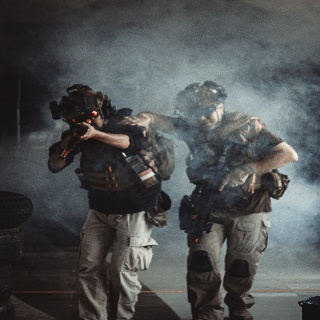rifle: (186, 142, 247, 244), (55, 108, 102, 165)
